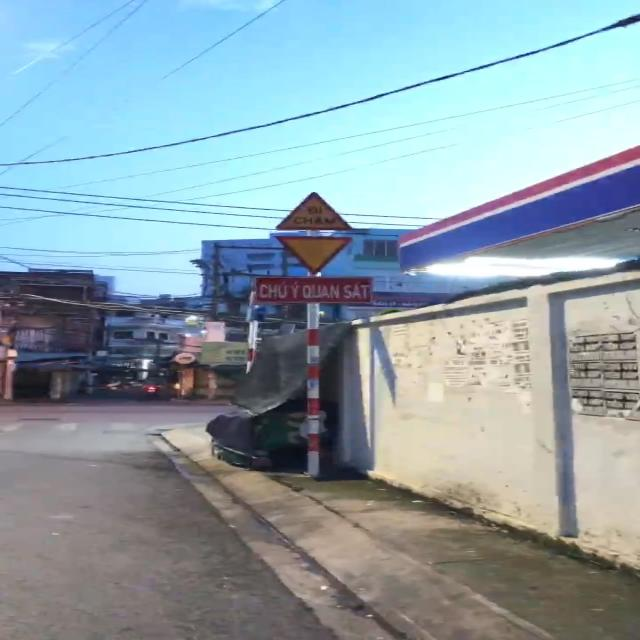Bien bao di cham: (268, 186, 363, 232)
Bien bao giao nhau voi duong uu tien: (267, 232, 373, 280)
